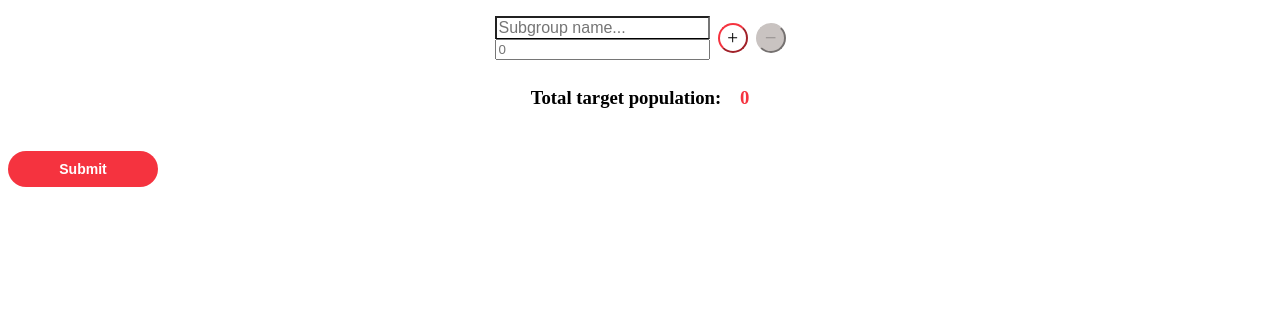
Test: Test subgroup input form › check for alert when negative group size
Type "-1" into the number field with test id "subgroup-size". click: {"x": 603, "y": 50}
box: top-left (495, 39), bottom-right (710, 60)
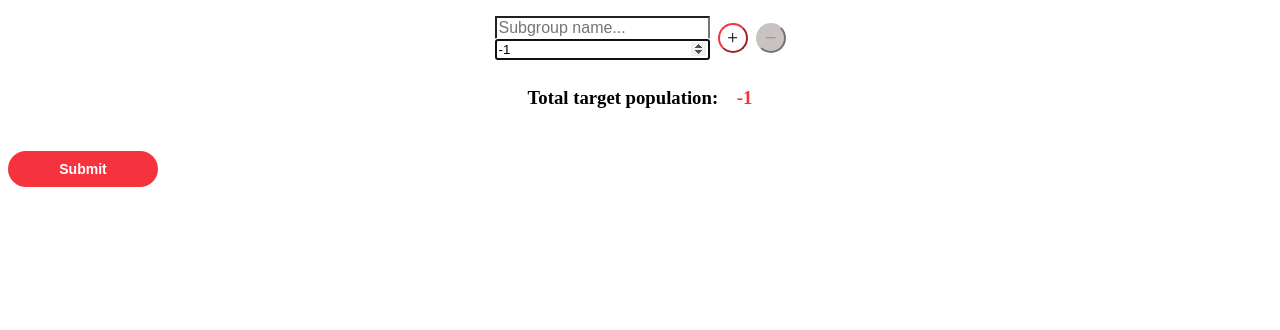
Click the button with test id "addgroup-btn". click: {"x": 733, "y": 38}
box: top-left (718, 23), bottom-right (748, 53)
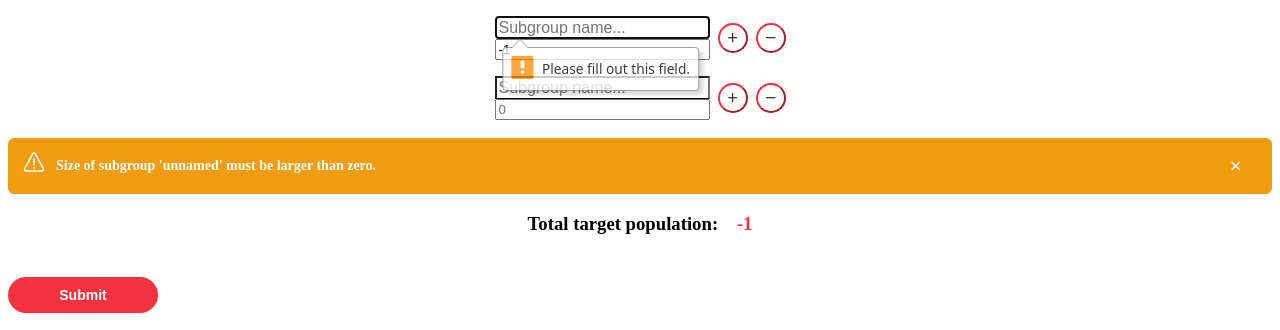
expect the text "Size of subgroup 'unnamed' must be larger than zero." is shown: met, box top-left (56, 158), bottom-right (376, 173)
